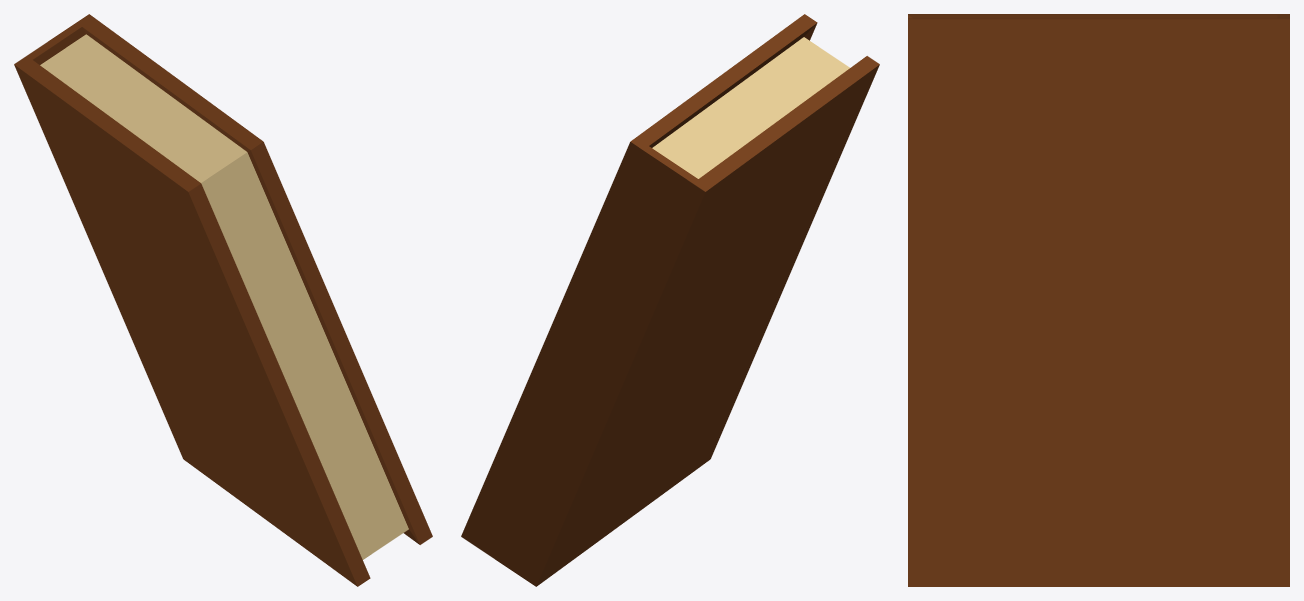
The model's file is Book1_012.fbx.
3 views of the same model, side by side, from view 1: azimuth 30°, elevation 25°; view 2: azimuth 150°, elevation 25°; view 3: azimuth 270°, elevation 25° (orthographic). The views are drawn at different scales.
Visible parts, largest first — view 1: Book1.012; view 2: Book1.012; view 3: Book1.012.
Part boxes in pixels (bbox=[...]): Book1.012: bbox=[14, 14, 432, 586]; Book1.012: bbox=[461, 14, 879, 586]; Book1.012: bbox=[908, 14, 1289, 586].
Bounding box in the file's own units: 30.84 × 56.42 × 38.09.
